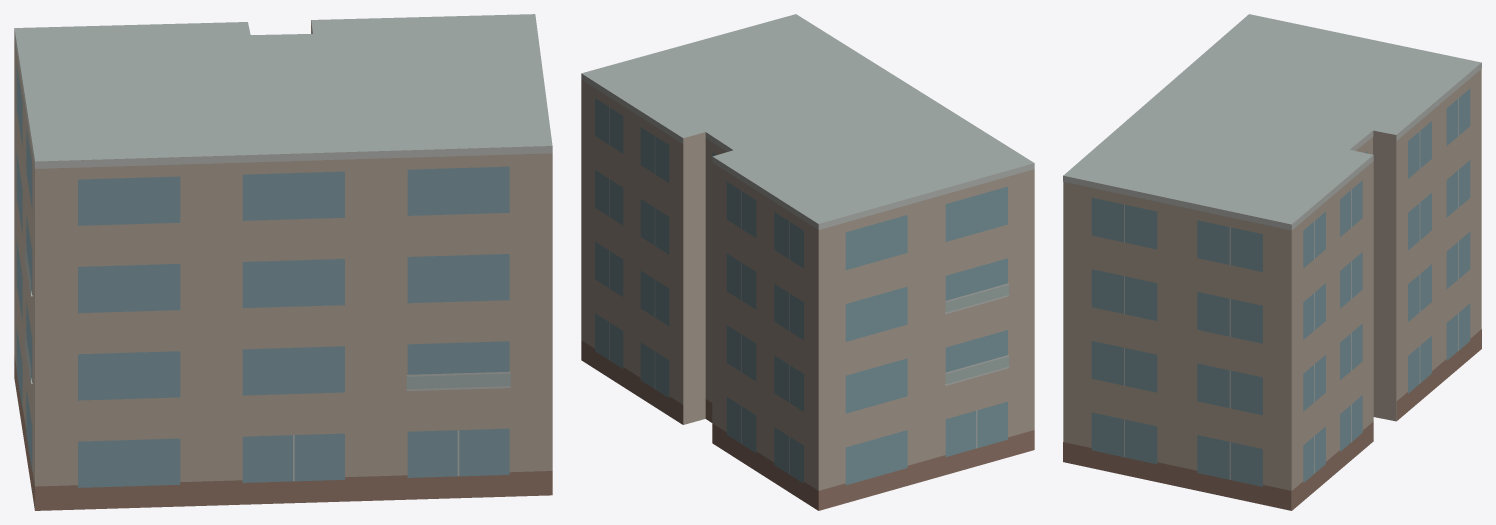
Rendered from survey-upis-32852760.glb.
The picture shows the model from 3 angles, left to right: view 1: azimuth 30°, elevation 25°; view 2: azimuth 150°, elevation 25°; view 3: azimuth 270°, elevation 25°; orthographic projection. The views are drawn at different scales.
Parts seen in each view (by area): view 1: survey-upis-32852760.tmp; view 2: survey-upis-32852760.tmp; view 3: survey-upis-32852760.tmp.
Part boxes in pixels (x1,y1,x2,y2): survey-upis-32852760.tmp: (14, 14, 552, 510); survey-upis-32852760.tmp: (581, 14, 1034, 510); survey-upis-32852760.tmp: (1063, 14, 1481, 510).
Bounding box in the file's own units: 18.3 × 11.6 × 15.38.
